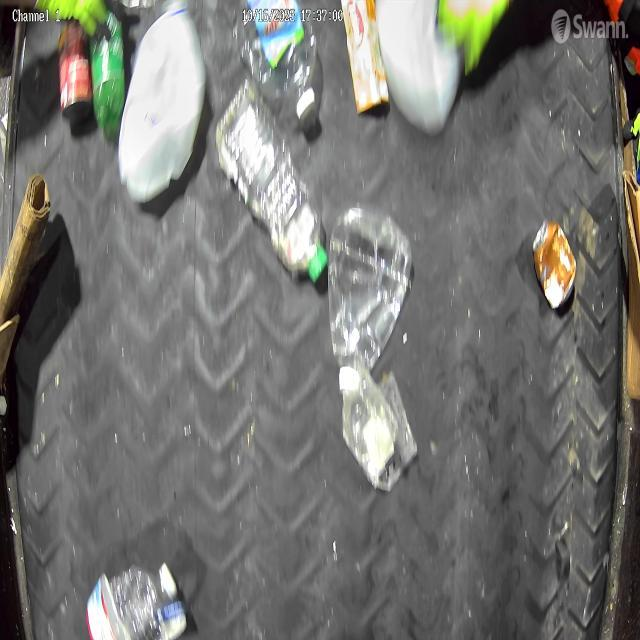can: (57, 17, 94, 118), (536, 222, 576, 302)
milk_jug: (121, 12, 202, 217)
plastic_bottle: (217, 78, 322, 274)
